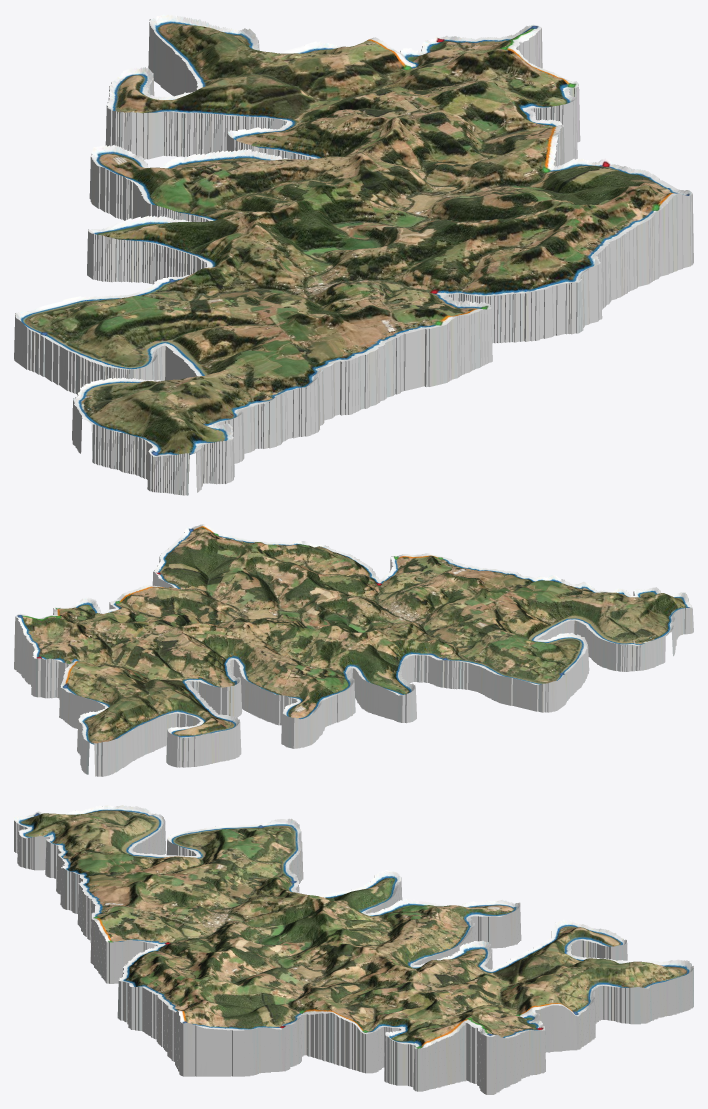
3 renders of one model, top to bottom at view 1: azimuth 30°, elevation 25°; view 2: azimuth 150°, elevation 25°; view 3: azimuth 270°, elevation 25°, orthographic. The views are drawn at different scales.
Size of the model in its own units: 1 by 0.1043 by 1.1.
Materials: 1 (1 with a texture image).
